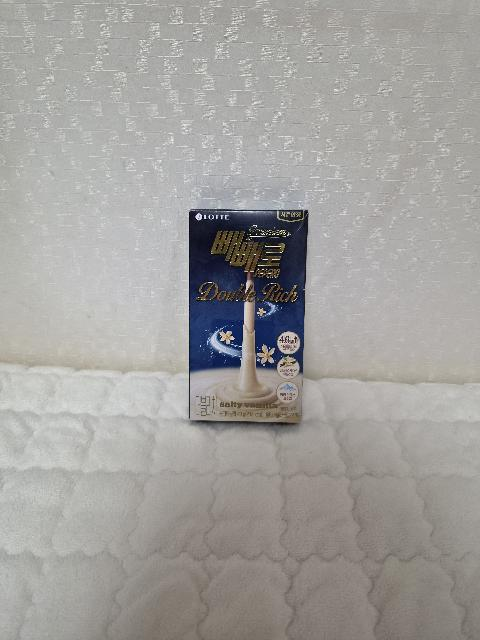pepero: (189, 209, 309, 423)
